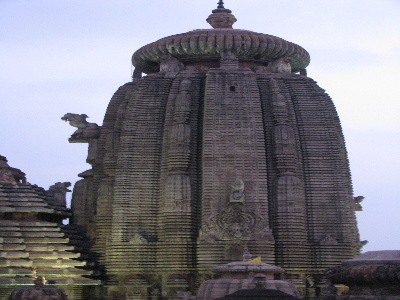amalaka: (121, 29, 324, 64)
gopuram: (82, 62, 371, 259)
